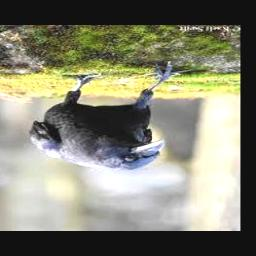Crow: (28, 61, 188, 170)
